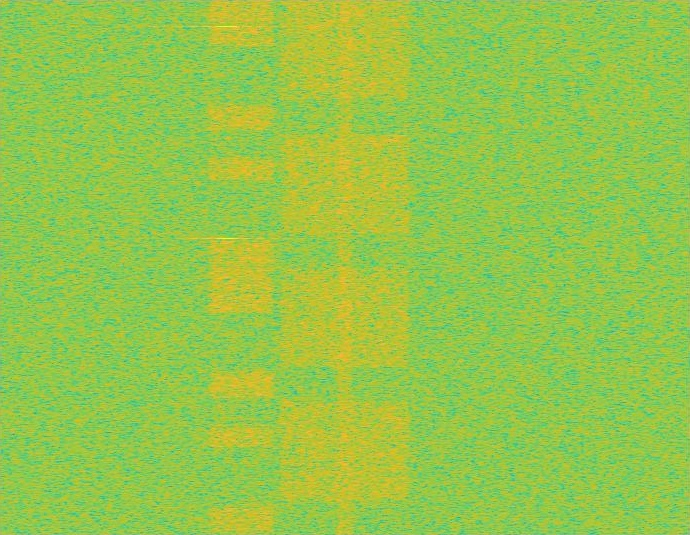5G: (276, 0, 414, 534)
DSSS: (336, 0, 354, 534)
LTE: (207, 0, 276, 534)
Radar: (220, 0, 234, 534)
